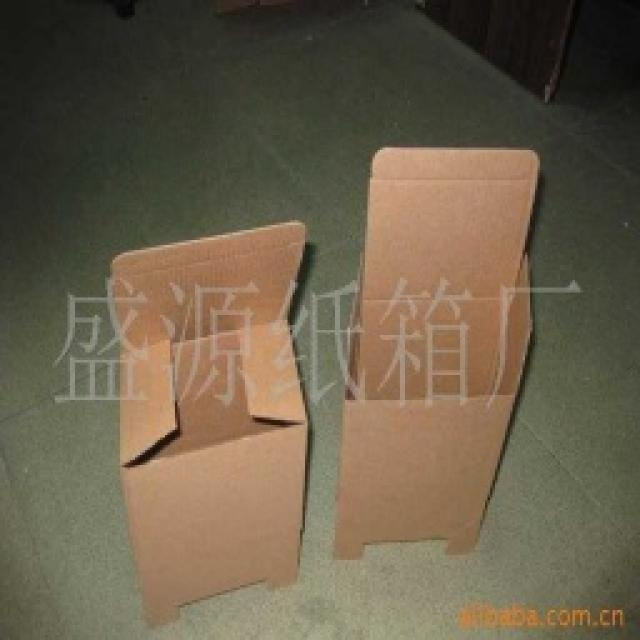box: (332, 124, 552, 568), (98, 212, 318, 625)
